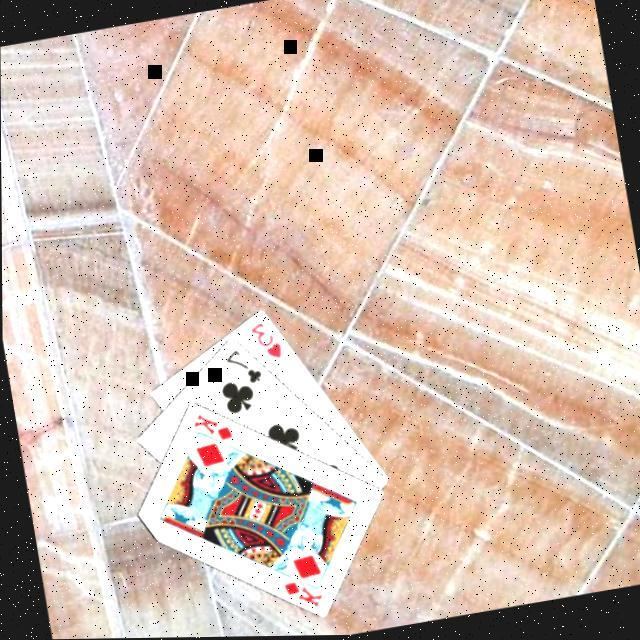3H: (244, 316, 284, 365)
7C: (218, 342, 263, 391)
KD: (186, 404, 234, 448), (277, 572, 324, 616)
